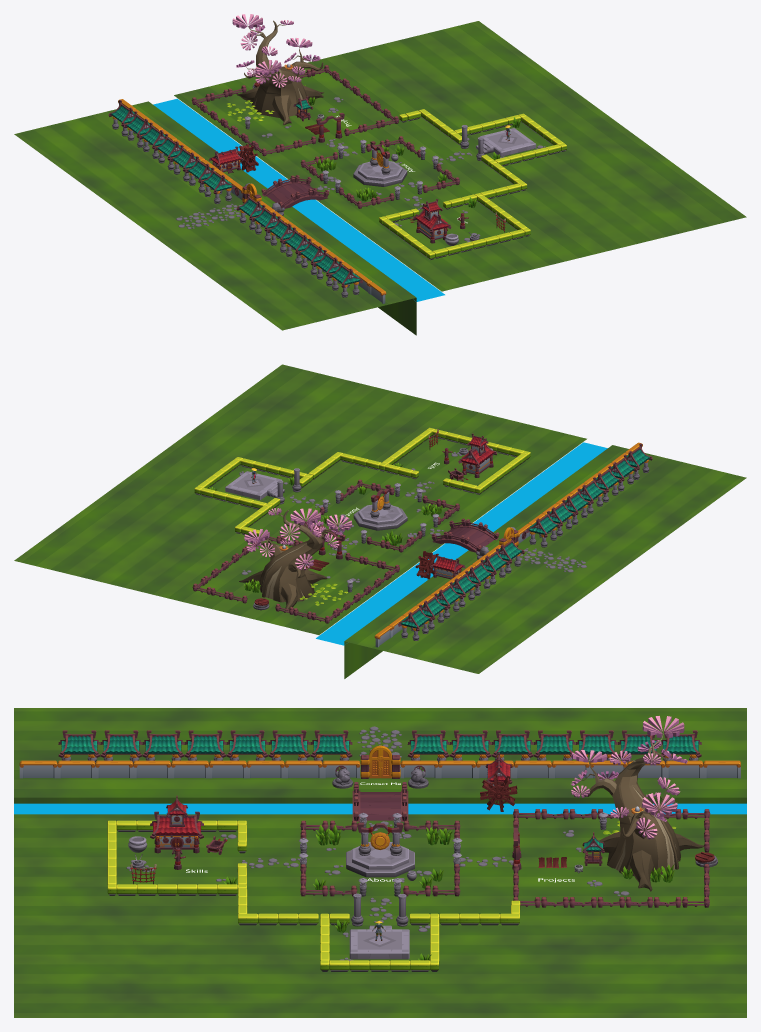
3 renders of one model, top to bottom at view 1: azimuth 30°, elevation 25°; view 2: azimuth 150°, elevation 25°; view 3: azimuth 270°, elevation 25°, orthographic. The views are drawn at different scales.
Visible parts, largest first — view 1: Level, gong; view 2: Level, gong; view 3: Level, gong, statue_frog.
Boxes of the visible parts, <box> form: Level: <box>14,14,746,335</box>; gong: <box>353,141,407,186</box>; Level: <box>14,364,746,678</box>; gong: <box>353,484,407,530</box>; Level: <box>14,708,746,1017</box>; gong: <box>346,822,414,877</box>; statue_frog: <box>332,768,428,788</box>.
Bounding box in the file's own units: 64 × 16.56 × 64.
7 materials, 5 textured.
